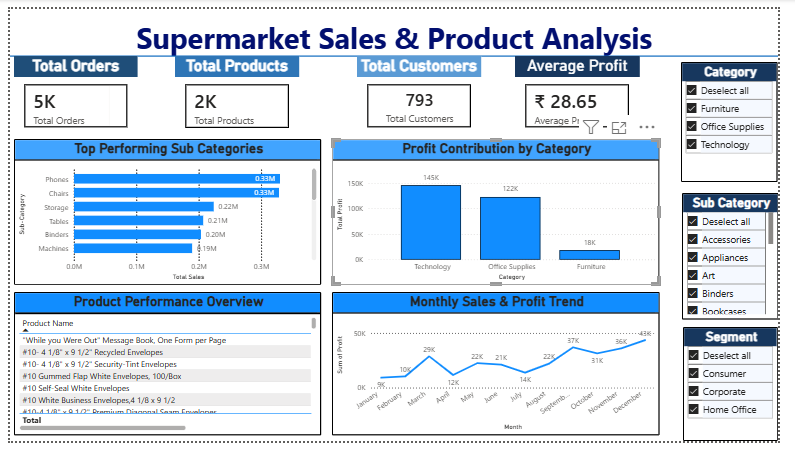

The dashboard page shown, as its layout file describes it:
{"tool":"powerbi","page":{"name":"Sales & Product Analysis","canvas":[1280,720],"ordinal":1},"visuals":[{"type":"textbox","box":[0,0,1280.5,87.8],"z":0},{"type":"textbox","box":[0,10,1280.5,87.8],"z":1000},{"type":"shape","box":[0,1.5,1280.5,153.7],"z":2000},{"type":"cardVisual","title":"Total Orders","fields":{"Data":["Supermarket sales.Total Orders"]},"box":[7.3,79,206.3,136.1],"z":3000},{"type":"cardVisual","title":"Total Products","fields":{"Data":["Supermarket sales.Total Products"]},"box":[275.1,79,207,137.6],"z":4000},{"type":"cardVisual","title":"Average Profit","fields":{"Data":["Supermarket sales.Average Profit"]},"box":[841.5,79,207.8,136.1],"z":5000},{"type":"cardVisual","title":"Total Customers","fields":{"Data":["Supermarket sales.Total Customers"]},"box":[578,79,207,136.1],"z":6000},{"type":"clusteredBarChart","title":"Top Performing Sub Categories","fields":{"Y":["Supermarket sales.Total Sales"],"Category":["Supermarket sales.Sub-Category"]},"box":[7.3,216.6,512.2,242.9],"z":7000},{"type":"columnChart","title":"Profit Contribution by Category","fields":{"Category":["Supermarket sales.Category"],"Y":["Supermarket sales.Total Profit"]},"box":[537.1,216.6,545.9,242.9],"z":8000},{"type":"lineChart","title":"Monthly Sales & Profit Trend","fields":{"Category":["Supermarket sales.Order Date.Variation.Date Hierarchy.Month"],"Y":["Sum(Supermarket sales.Profit)"]},"box":[537.1,471.2,545.9,238.5],"z":9000},{"type":"tableEx","title":"Product Performance Overview","fields":{"Values":["Supermarket sales.Product Name","Supermarket sales.Category","Supermarket sales.Total Sales","Supermarket sales.Total Profit","Supermarket sales.Total Quantity"]},"box":[7.3,471.2,512.2,238.5],"z":10000},{"type":"listSlicer","fields":{"Values":["Supermarket sales.Category"]},"box":[1118,87.8,161,200.5],"z":11000},{"type":"listSlicer","title":"Sub Category","fields":{"Values":["Supermarket sales.Sub-Category"]},"box":[1119.5,305.9,161,210.7],"z":12000},{"type":"listSlicer","fields":{"Values":["Supermarket sales.Segment"]},"box":[1122.4,529.8,158,190.2],"z":13000}]}

Visuals, with their boxes in screenshot pixels (x1, y1, x2, y2), scaled from the page's 1280x720 canvas onto the 795x460 screenshot:
textbox: select_region(0, 0, 794, 56)
textbox: select_region(0, 6, 794, 62)
shape: select_region(0, 1, 794, 99)
"Total Orders" cardVisual: select_region(5, 50, 133, 137)
"Total Products" cardVisual: select_region(171, 50, 299, 138)
"Average Profit" cardVisual: select_region(523, 50, 652, 137)
"Total Customers" cardVisual: select_region(359, 50, 488, 137)
"Top Performing Sub Categories" clusteredBarChart: select_region(5, 138, 323, 294)
"Profit Contribution by Category" columnChart: select_region(334, 138, 673, 294)
"Monthly Sales & Profit Trend" lineChart: select_region(334, 301, 673, 453)
"Product Performance Overview" tableEx: select_region(5, 301, 323, 453)
listSlicer - Supermarket sales.Category: select_region(694, 56, 794, 184)
"Sub Category" listSlicer: select_region(695, 195, 794, 330)
listSlicer - Supermarket sales.Segment: select_region(697, 338, 794, 459)
